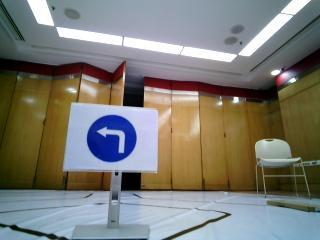left: (74, 107, 154, 173)
